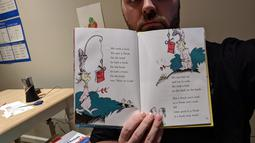text block: (168, 74, 208, 120), (103, 43, 136, 83)
